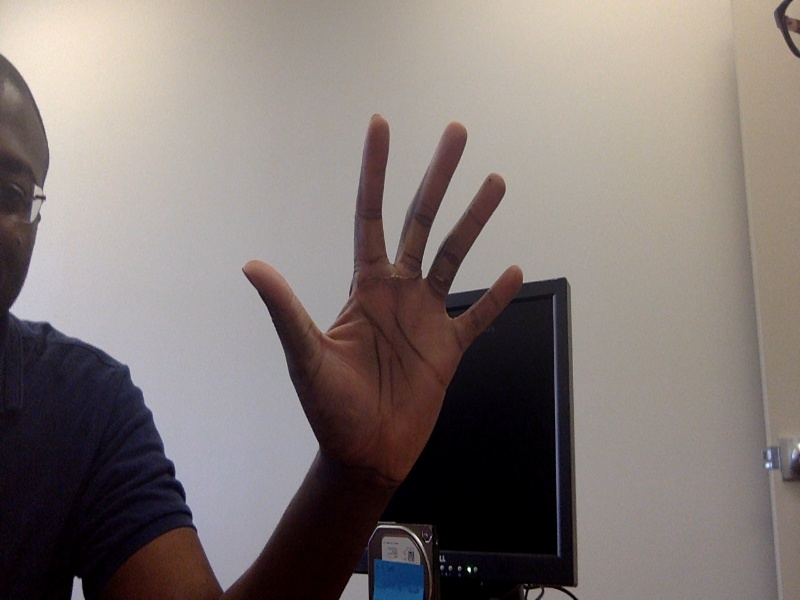5-hand: (242, 112, 526, 485)
